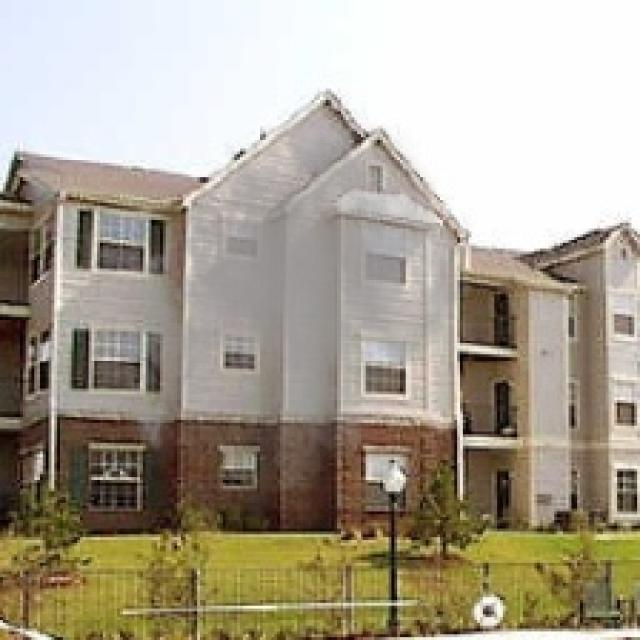Smoke: (120, 102, 474, 518)
